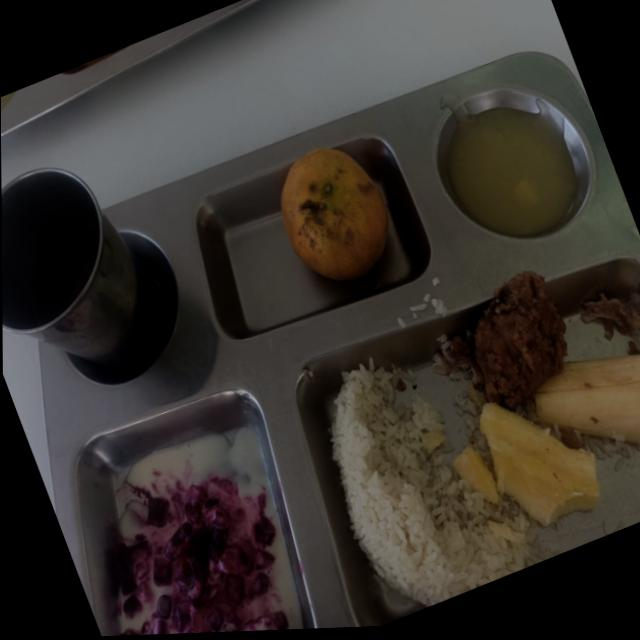arroz: (331, 360, 534, 605)
mandarina: (282, 148, 388, 280)
pescado frito: (475, 271, 567, 409), (581, 293, 639, 339)
yuca: (455, 403, 601, 526), (536, 355, 639, 442), (588, 303, 589, 304), (592, 302, 593, 303)
